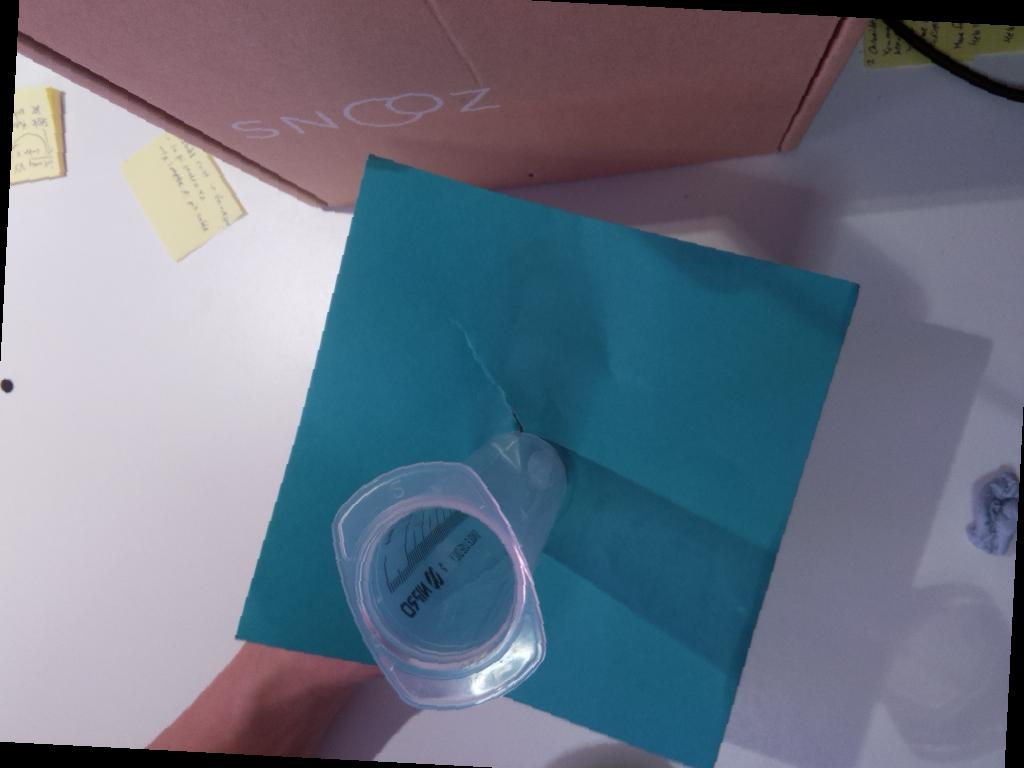clean: (330, 459, 547, 712)
